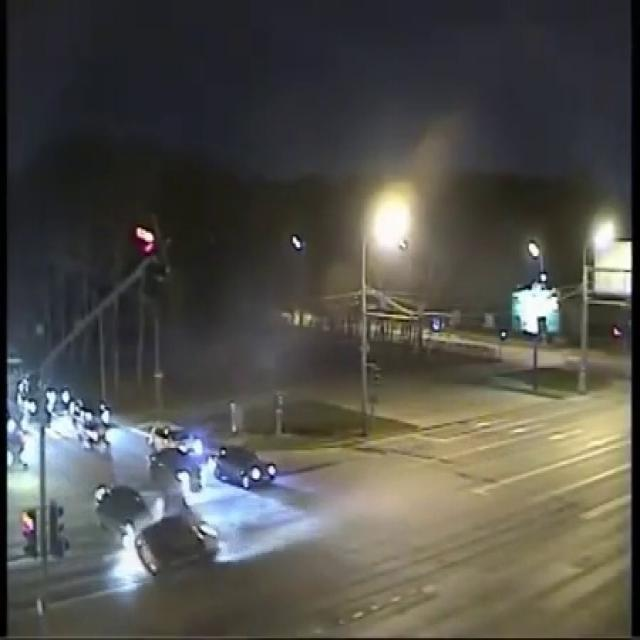accident: (96, 484, 220, 582)
